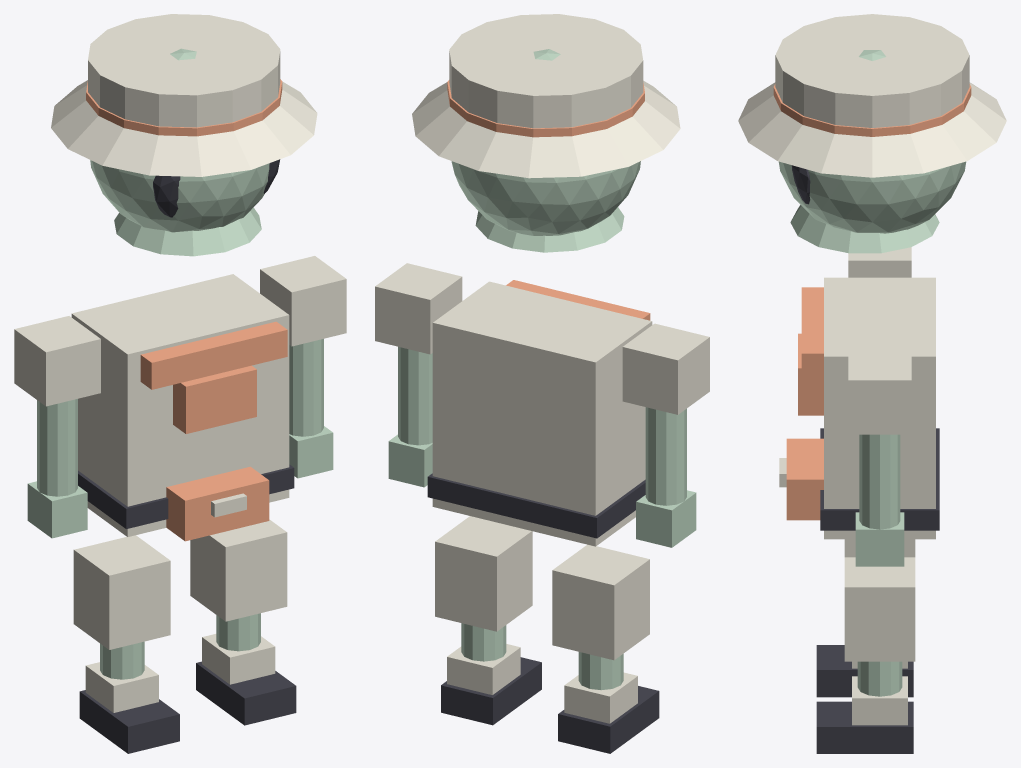
File: alien-tourist.glb
3 renders of one model, left to right at view 1: azimuth 30°, elevation 25°; view 2: azimuth 150°, elevation 25°; view 3: azimuth 270°, elevation 25°, orthographic.
Visible parts, largest first — view 1: TouristTee, BucketHatCrown, BucketHatBrim, Shorts_L, Shorts_R, AlienCranium, Sleeve_L, Sleeve_R, LeiCollar, FannyPackPouch, LeiPendant, Sandal_L (+14 smaller); view 2: TouristTee, BucketHatCrown, BucketHatBrim, Shorts_L, Shorts_R, AlienCranium, Sleeve_L, Sleeve_R, FannyPackBelt, AlienArm_L, Sandal_L, Sandal_R (+10 smaller); view 3: TouristTee, BucketHatCrown, BucketHatBrim, AlienCranium, Shorts_R, Sleeve_R, AlienArm_R, Sandal_R, AlienChin, FannyPackPouch, LeiCollar, AlienHand_R (+8 smaller).
Part boxes in pixels (bbox=[...]): TouristTee: bbox=[71, 274, 289, 536]; BucketHatCrown: bbox=[88, 14, 280, 127]; BucketHatBrim: bbox=[51, 80, 317, 176]; Shorts_L: bbox=[73, 535, 170, 649]; Shorts_R: bbox=[190, 519, 287, 621]; AlienCranium: bbox=[90, 48, 269, 232]; Sleeve_L: bbox=[14, 316, 100, 406]; Sleeve_R: bbox=[260, 256, 346, 346]; LeiCollar: bbox=[140, 321, 287, 389]; FannyPackPouch: bbox=[166, 466, 269, 541]; LeiPendant: bbox=[173, 365, 256, 433]; Sandal_L: bbox=[79, 690, 179, 753]; TouristTee: bbox=[432, 281, 652, 546]; BucketHatCrown: bbox=[449, 14, 643, 128]; BucketHatBrim: bbox=[412, 80, 680, 178]; Shorts_L: bbox=[552, 544, 649, 660]; Shorts_R: bbox=[435, 516, 532, 631]; AlienCranium: bbox=[451, 49, 640, 235]; Sleeve_L: bbox=[622, 323, 709, 414]; Sleeve_R: bbox=[375, 263, 462, 354]; FannyPackBelt: bbox=[427, 473, 645, 538]; AlienArm_L: bbox=[645, 407, 686, 505]; Sandal_L: bbox=[558, 686, 659, 753]; Sandal_R: bbox=[441, 657, 541, 725]; TouristTee: bbox=[824, 277, 935, 539]; BucketHatCrown: bbox=[775, 14, 969, 127]; BucketHatBrim: bbox=[738, 82, 1006, 177]; AlienCranium: bbox=[778, 50, 966, 233]; Shorts_R: bbox=[844, 557, 915, 661]; Sleeve_R: bbox=[848, 353, 911, 434]; AlienArm_R: bbox=[859, 434, 900, 529]; Sandal_R: bbox=[816, 701, 913, 753]; AlienChin: bbox=[790, 205, 939, 253]; FannyPackPouch: bbox=[786, 438, 823, 520]; LeiCollar: bbox=[801, 287, 823, 380]; AlienHand_R: bbox=[855, 512, 904, 566].
Bounding box in the file's own units: 0.93 × 1.95 × 0.72.
